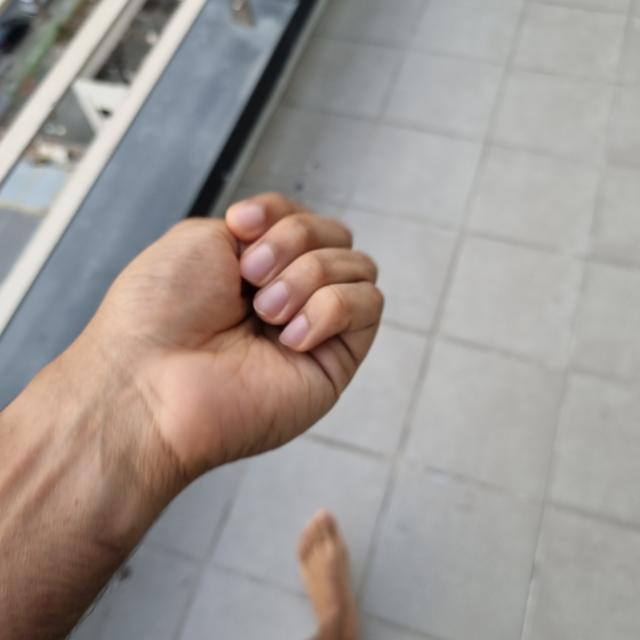Rock: (56, 192, 386, 484)
